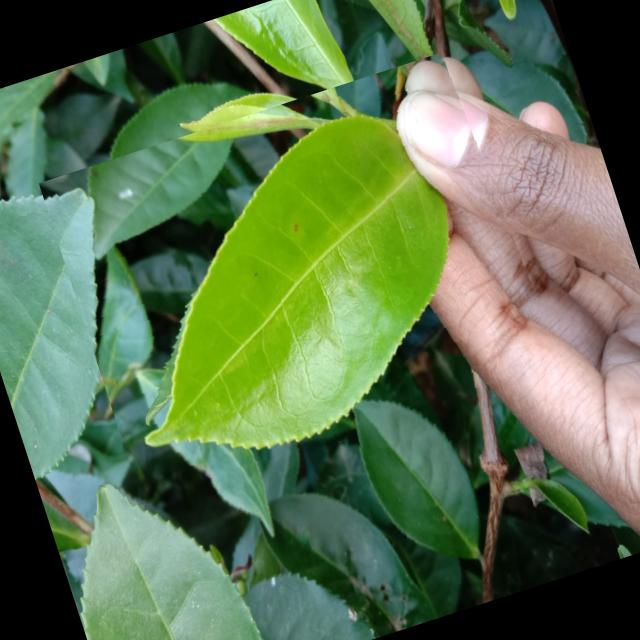Category C 4-7 days: (38, 45, 566, 508)
